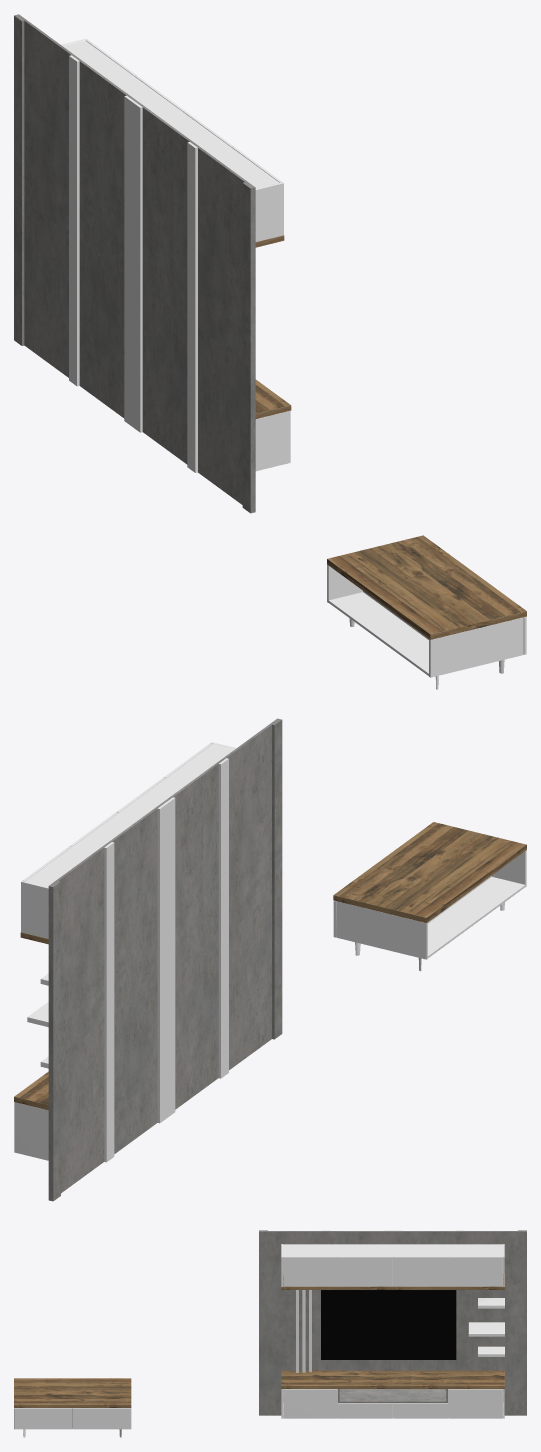
The model's file is alterita153_oby_v3.glb.
3 renders of one model, top to bottom at view 1: azimuth 30°, elevation 25°; view 2: azimuth 150°, elevation 25°; view 3: azimuth 270°, elevation 25°, orthographic. The views are drawn at different scales.
Visible parts, largest first — view 1: Object_4, Object_5, Object_7, Object_11, Object_6, Object_13, Object_8; view 2: Object_4, Object_5, Object_7, Object_12, Object_13, Object_6, Object_10; view 3: Object_4, Object_3, Object_7, Object_12, Object_13, Object_5, Object_8, Object_9, Object_10, Object_11, Object_14.
Part boxes in pixels (box(x1,y1,x2,y2)): Object_4: box(14, 14, 255, 513); Object_5: box(63, 40, 504, 689); Object_7: box(255, 235, 526, 639); Object_11: box(134, 76, 523, 677); Object_6: box(69, 55, 428, 675); Object_13: box(61, 38, 526, 677); Object_8: box(183, 112, 283, 241); Object_4: box(48, 718, 282, 1201); Object_5: box(25, 744, 525, 1161); Object_7: box(14, 822, 526, 1110); Object_12: box(336, 901, 426, 959); Object_13: box(14, 742, 526, 1160); Object_6: box(104, 758, 525, 1162); Object_10: box(21, 848, 70, 938); Object_4: box(259, 1230, 526, 1415); Object_3: box(321, 1290, 456, 1359); Object_7: box(14, 1274, 504, 1407); Object_12: box(14, 1389, 503, 1429); Object_13: box(14, 1244, 504, 1428); Object_5: box(23, 1244, 503, 1437); Object_8: box(338, 1257, 392, 1286); Object_9: box(283, 1257, 337, 1286); Object_10: box(448, 1257, 502, 1286); Object_11: box(393, 1257, 447, 1286); Object_14: box(302, 1290, 311, 1372).
Bounding box in the file's own units: 70.1 × 238 × 569.
Materials: 6 (2 with a texture image).
